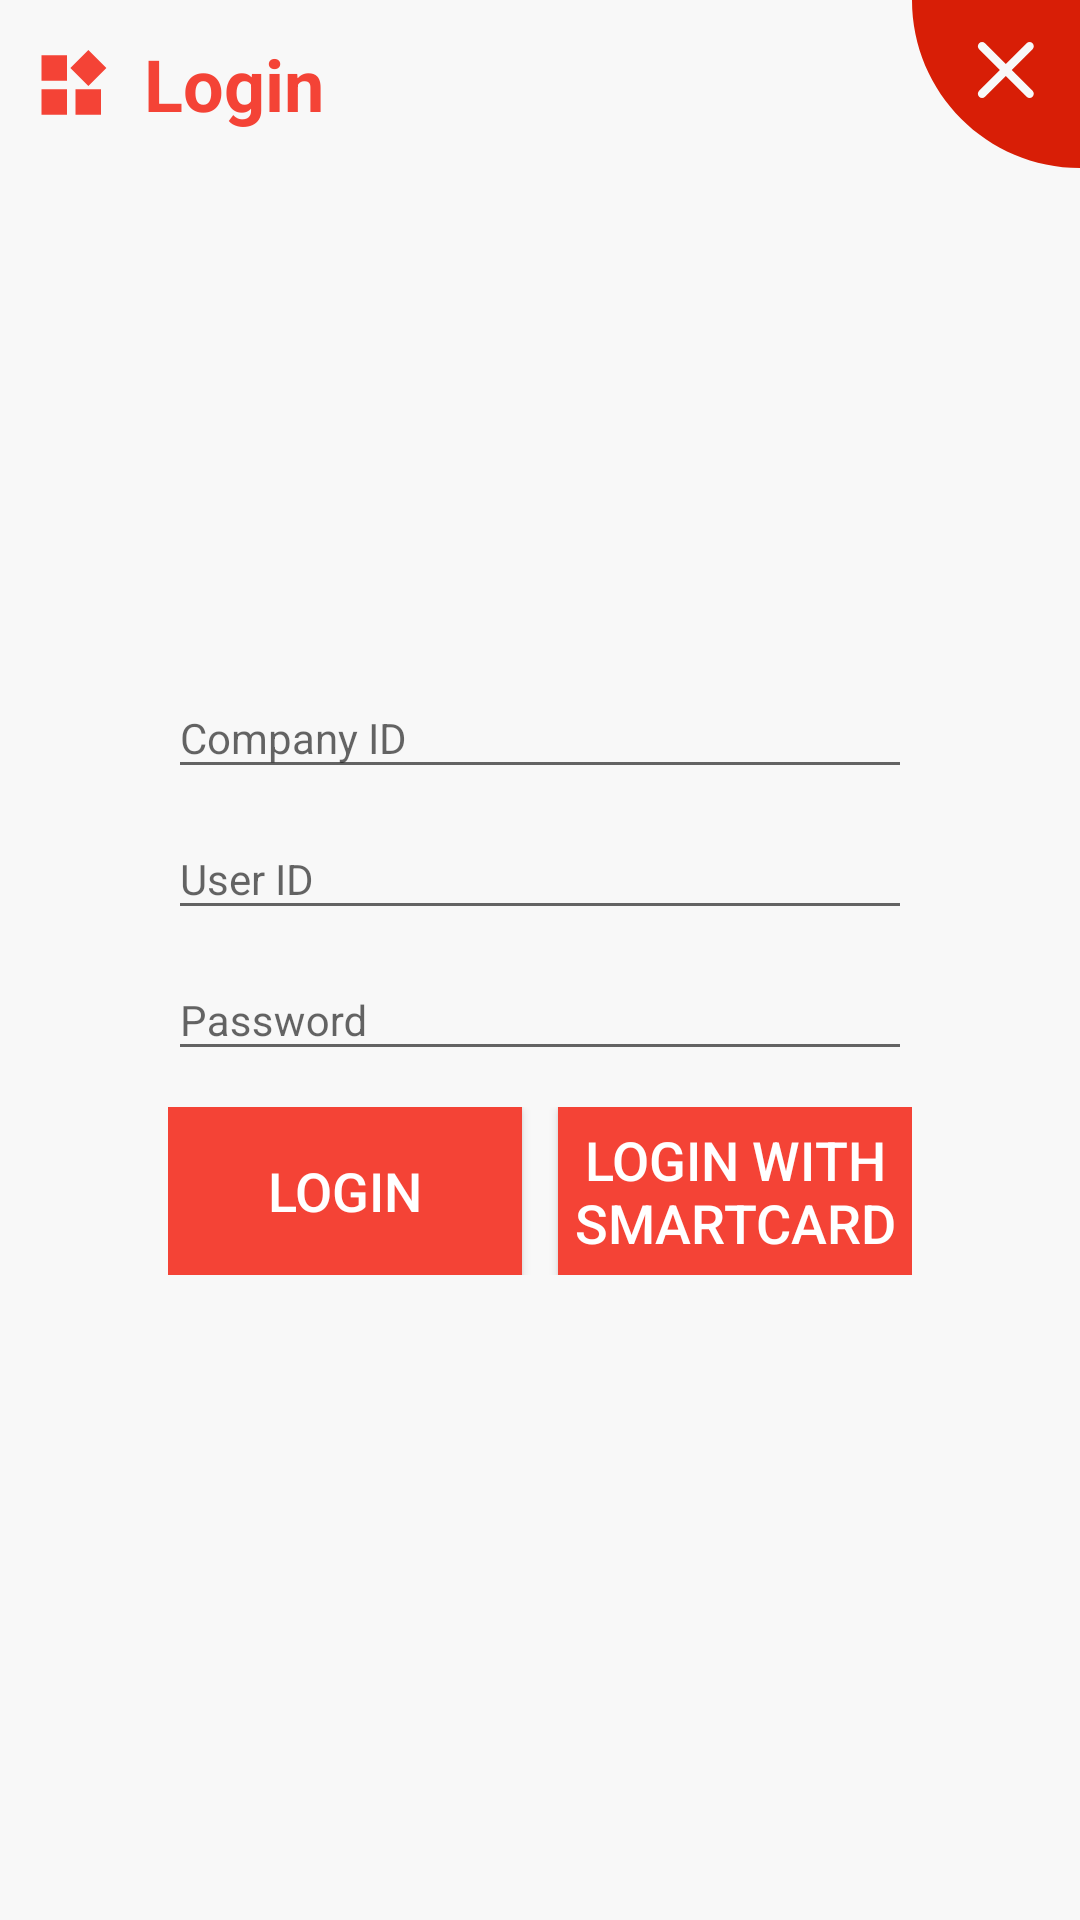

Where icons sit on this 1080 × 1920 app screen, as (x1, y1, x2, y2):
close: (912, 0, 1080, 168)
